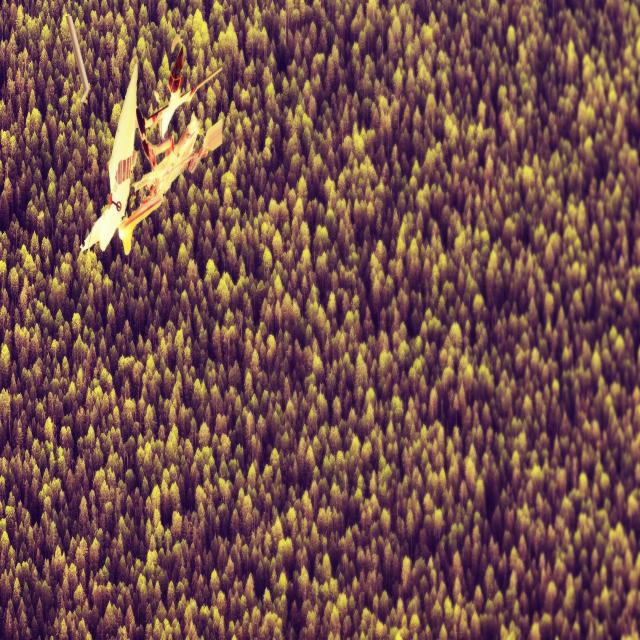airplane: (79, 64, 223, 257), (141, 38, 223, 140)
